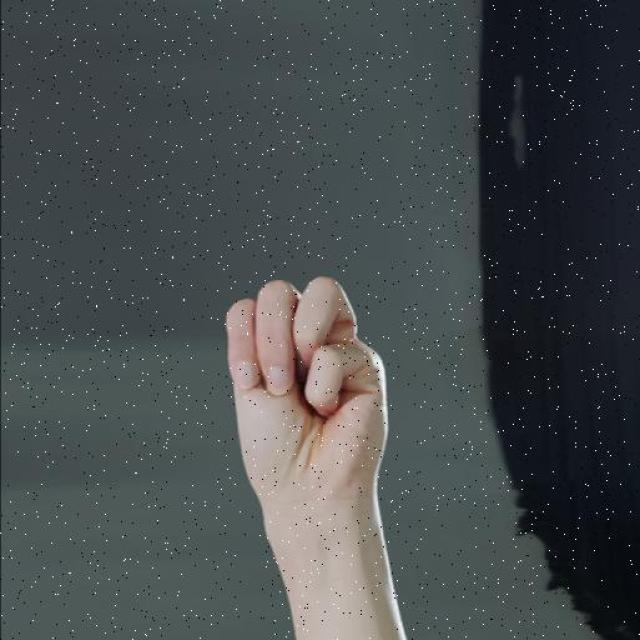M: (220, 274, 394, 518)
